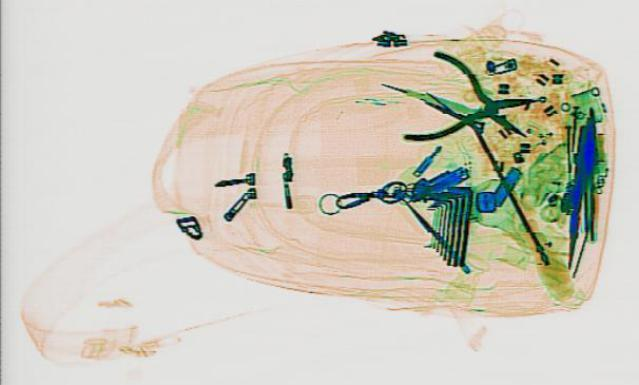Pliers: (377, 50, 563, 160)
